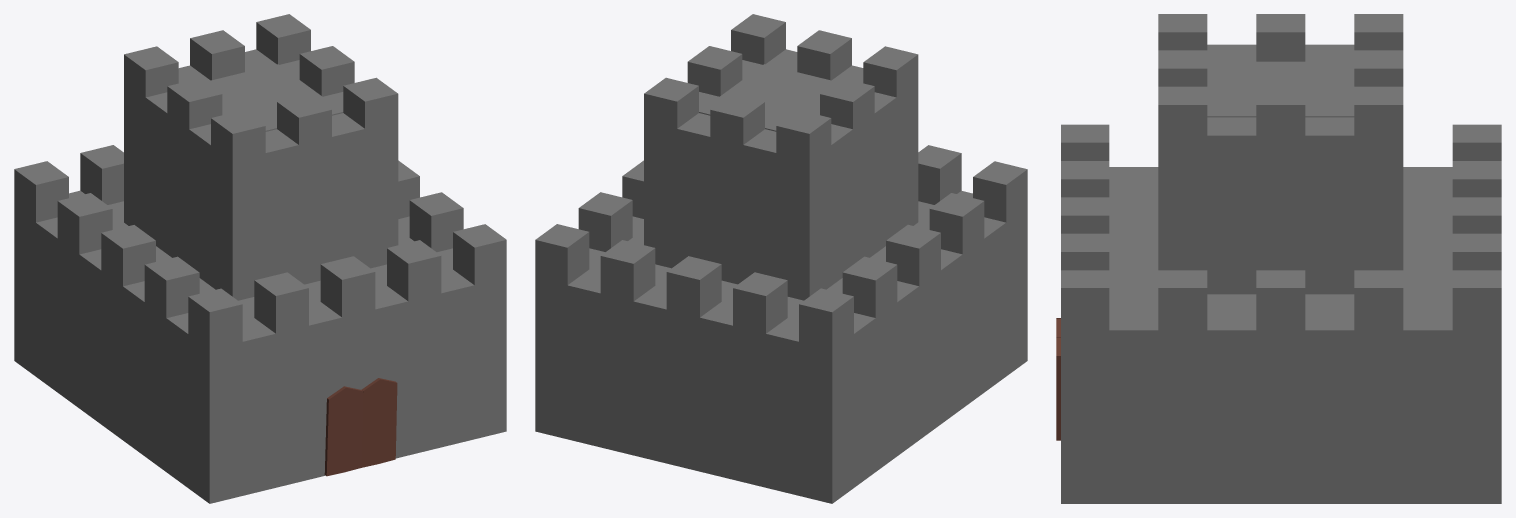
Rendered from castillo.fbx.
3 renders of one model, left to right at view 1: azimuth 30°, elevation 25°; view 2: azimuth 150°, elevation 25°; view 3: azimuth 270°, elevation 25°, orthographic. The views are drawn at different scales.
Parts seen in each view (by area): view 1: Cube, Cube.001, Cube.002; view 2: Cube; view 3: Cube, Cube.002.
Boxes of the visible parts, x1=… form: Cube: x1=14, y1=14, x2=506, y2=503; Cube.001: x1=324, y1=386, x2=362, y2=476; Cube.002: x1=361, y1=378, x2=397, y2=467; Cube: x1=535, y1=14, x2=1027, y2=503; Cube: x1=1061, y1=14, x2=1501, y2=503; Cube.002: x1=1056, y1=337, x2=1060, y2=440.
Bounding box in the file's own units: 1711 × 1773 × 1970.
